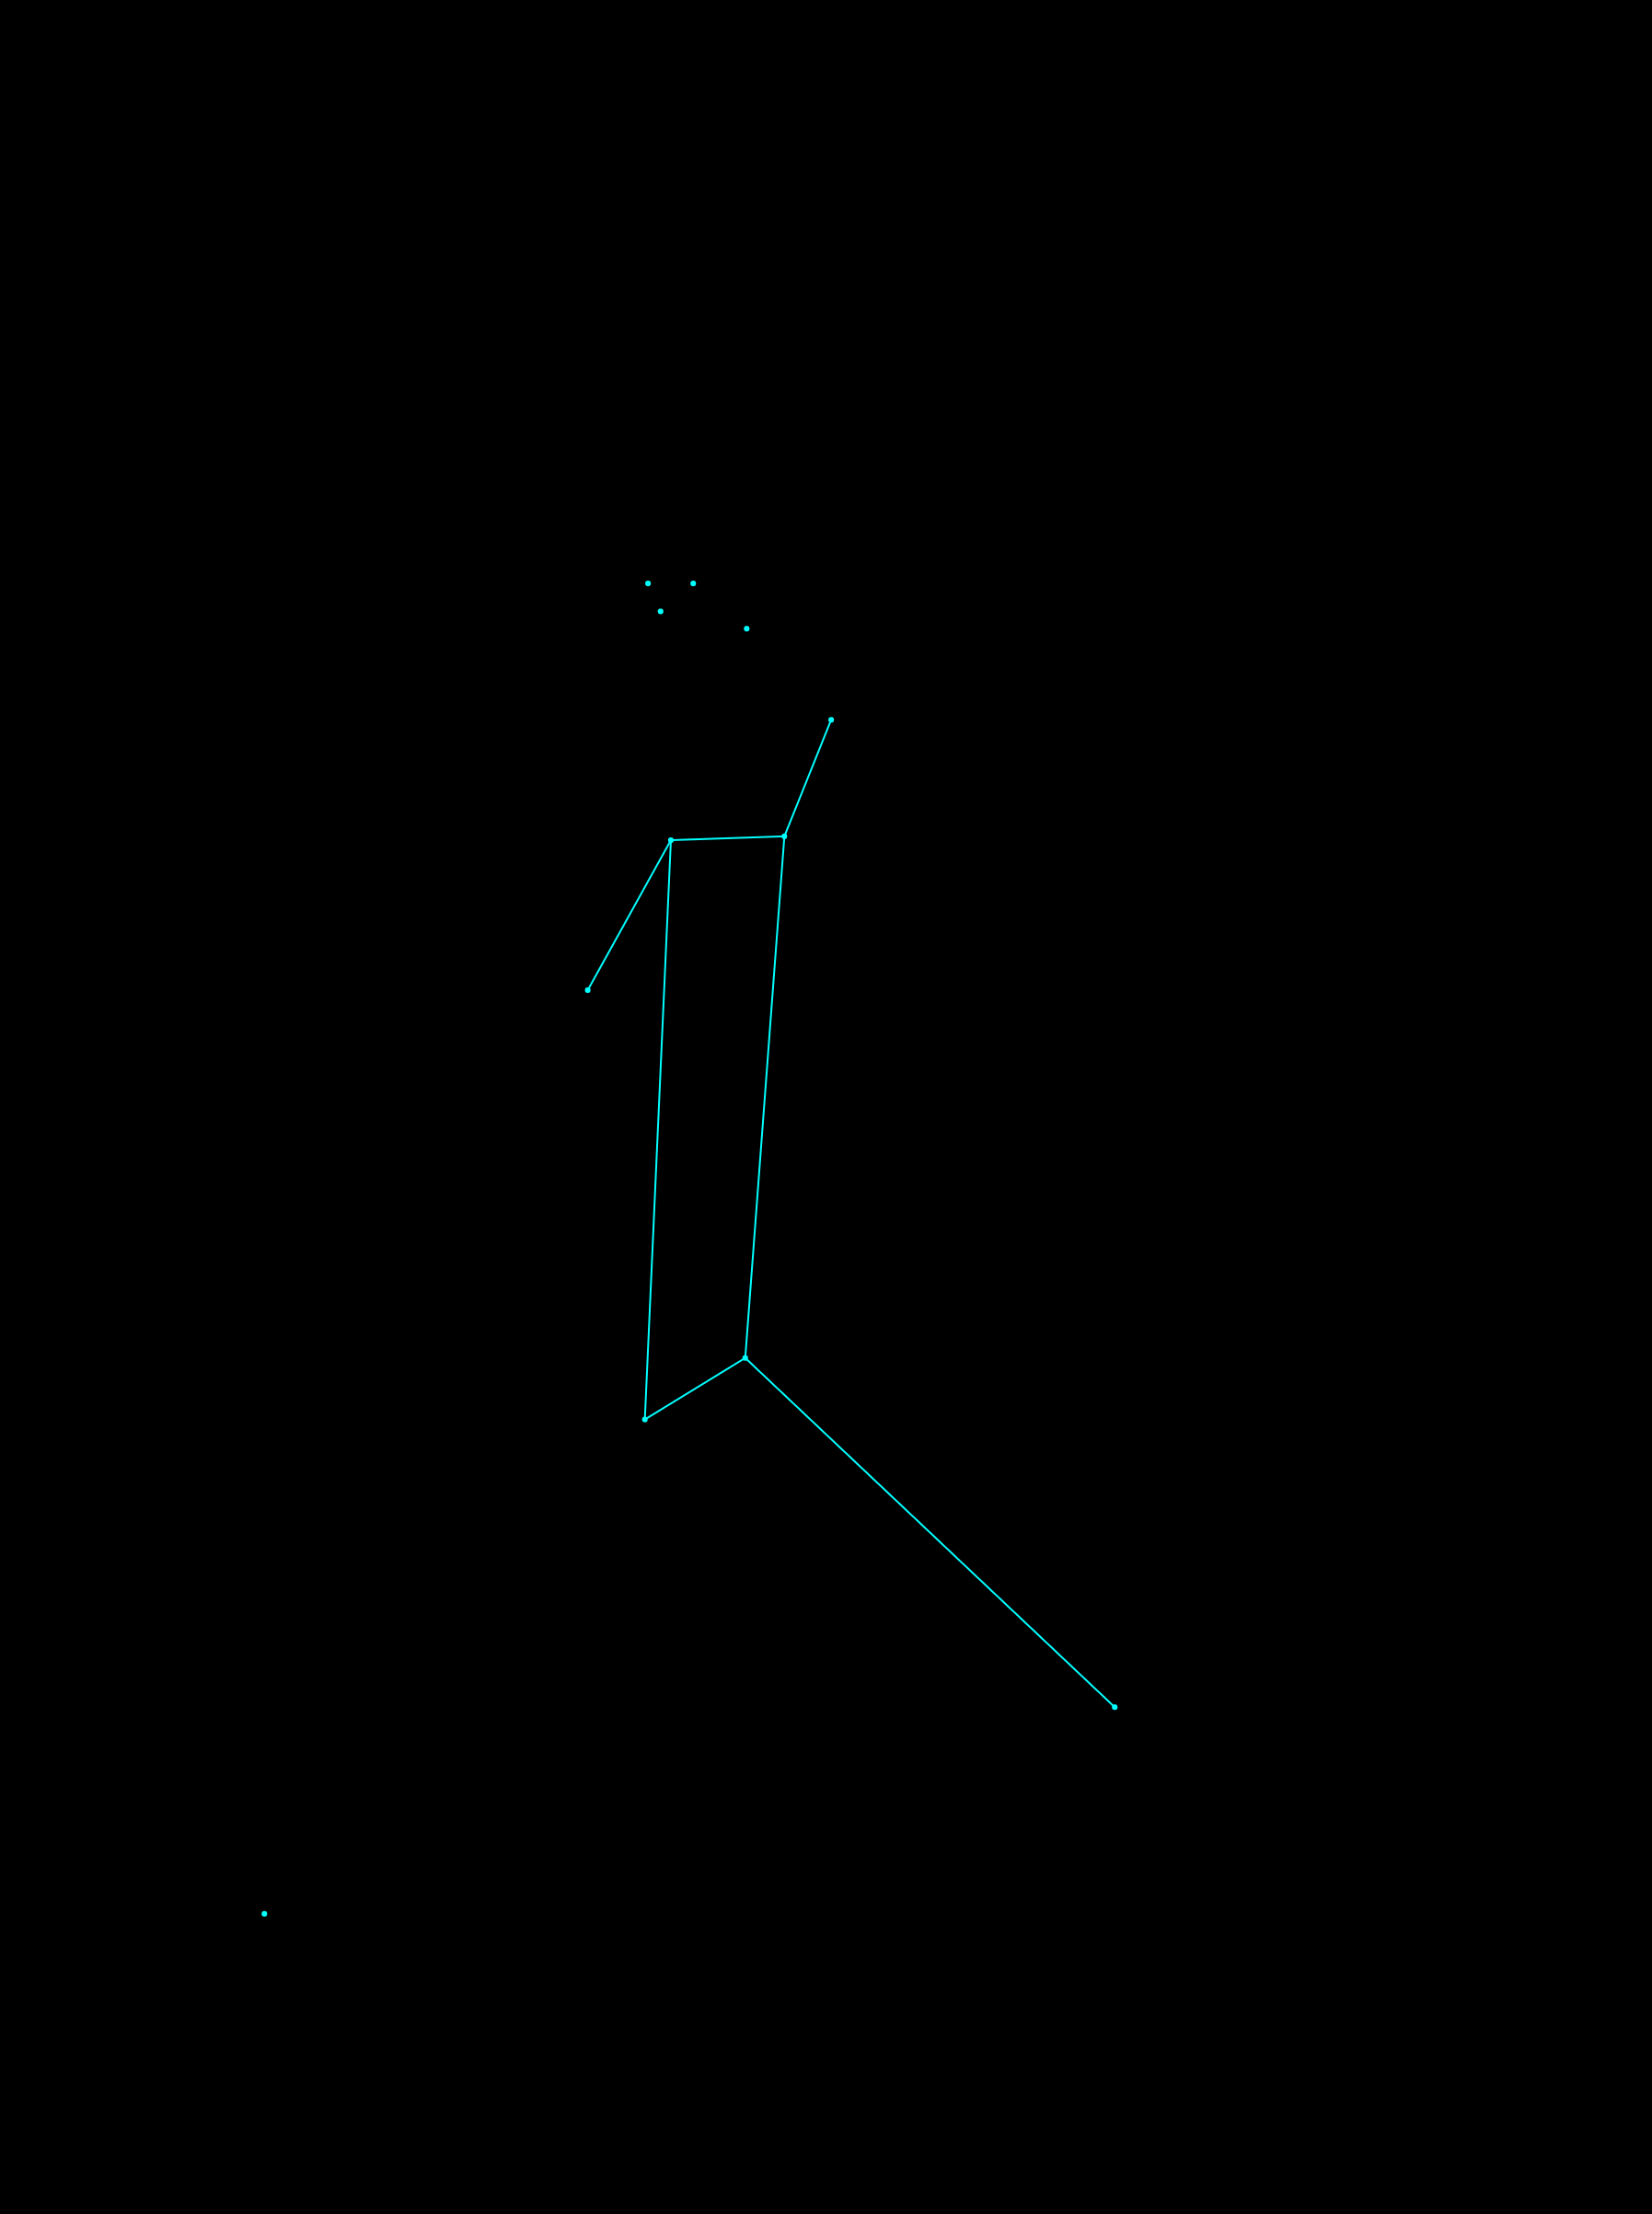warrior_1: (227, 534, 1171, 1931)
